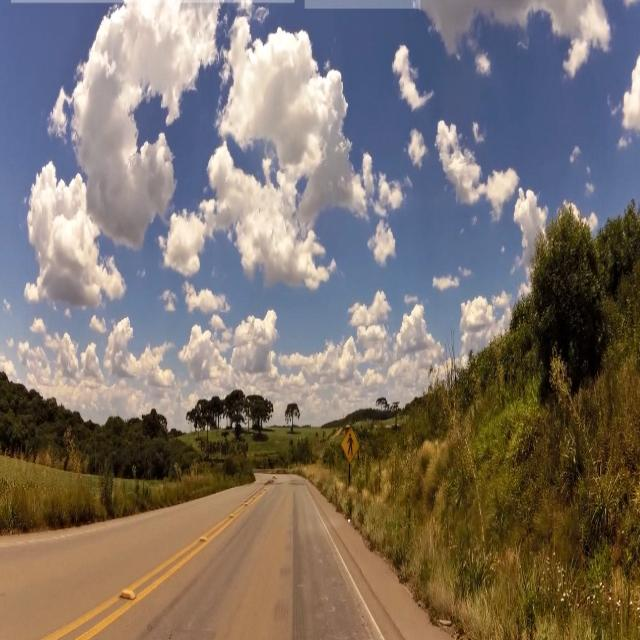A-32a: (342, 426, 359, 466)
